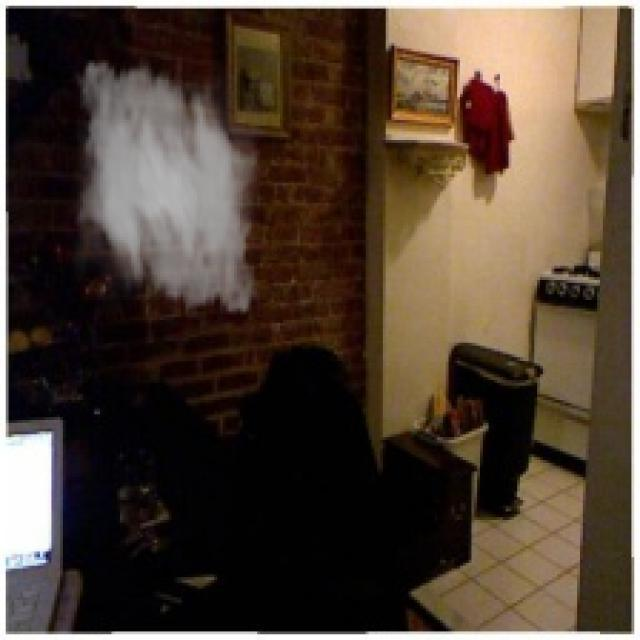Smoke: (66, 48, 274, 326)
